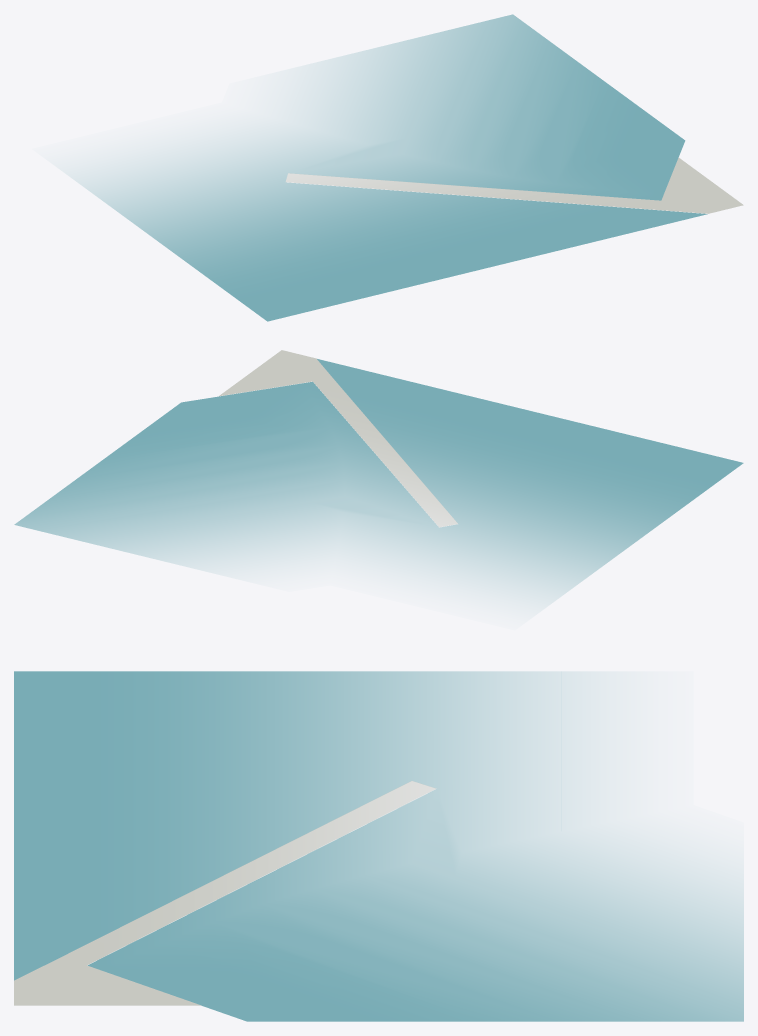
3 renders of one model, top to bottom at view 1: azimuth 30°, elevation 25°; view 2: azimuth 150°, elevation 25°; view 3: azimuth 270°, elevation 25°, orthographic. The views are drawn at different scales.
Parts seen in each view (by area): view 1: city; view 2: city; view 3: city.
Boxes of the visible parts, x1,y1,x2,y2 form: city: (67,14,743,321); city: (14,350,743,605); city: (14,671,743,1021).
Size of the model in its own units: 500 by 0.18 by 440.
